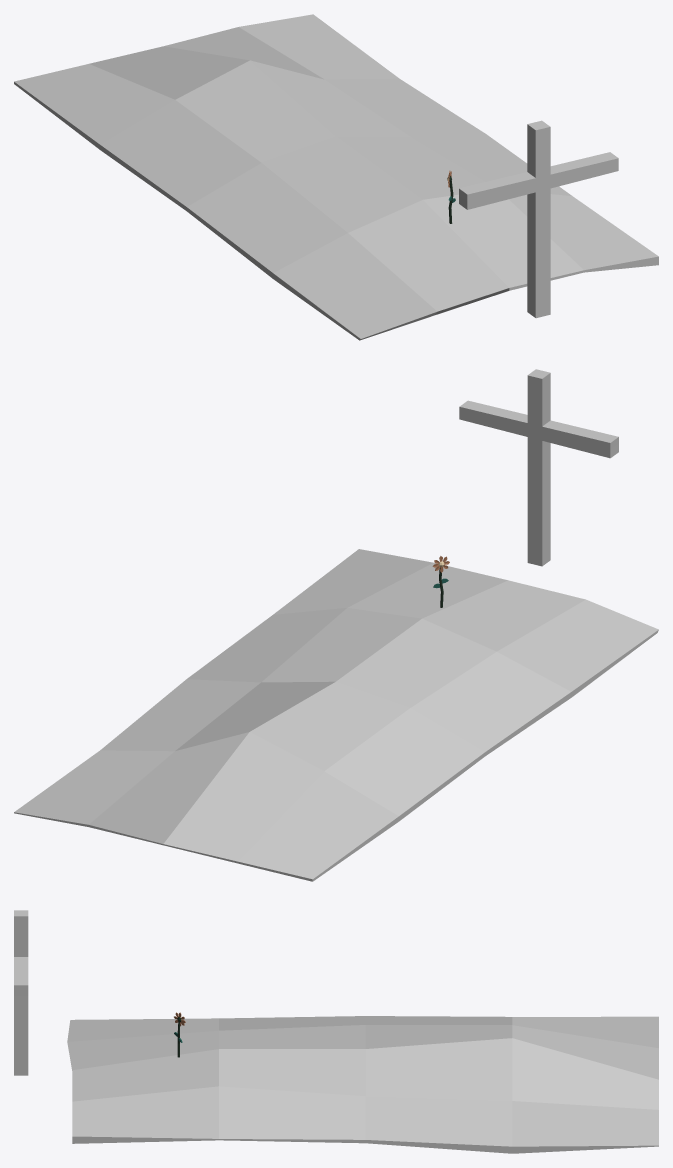
Rendered from Tumbasaltf.fbx.
The picture shows the model from 3 angles, top to bottom: view 1: azimuth 30°, elevation 25°; view 2: azimuth 150°, elevation 25°; view 3: azimuth 270°, elevation 25°; orthographic projection. The views are drawn at different scales.
Parts seen in each view (by area): view 1: Tumba alt; view 2: Tumba alt; view 3: Tumba alt.
Part boxes in pixels (left/top/right/bottom): Tumba alt: left=14, top=14, right=658, bottom=340; Tumba alt: left=14, top=369, right=658, bottom=881; Tumba alt: left=14, top=910, right=658, bottom=1153.
Size of the model in its own units: 100 by 67.11 by 220.
